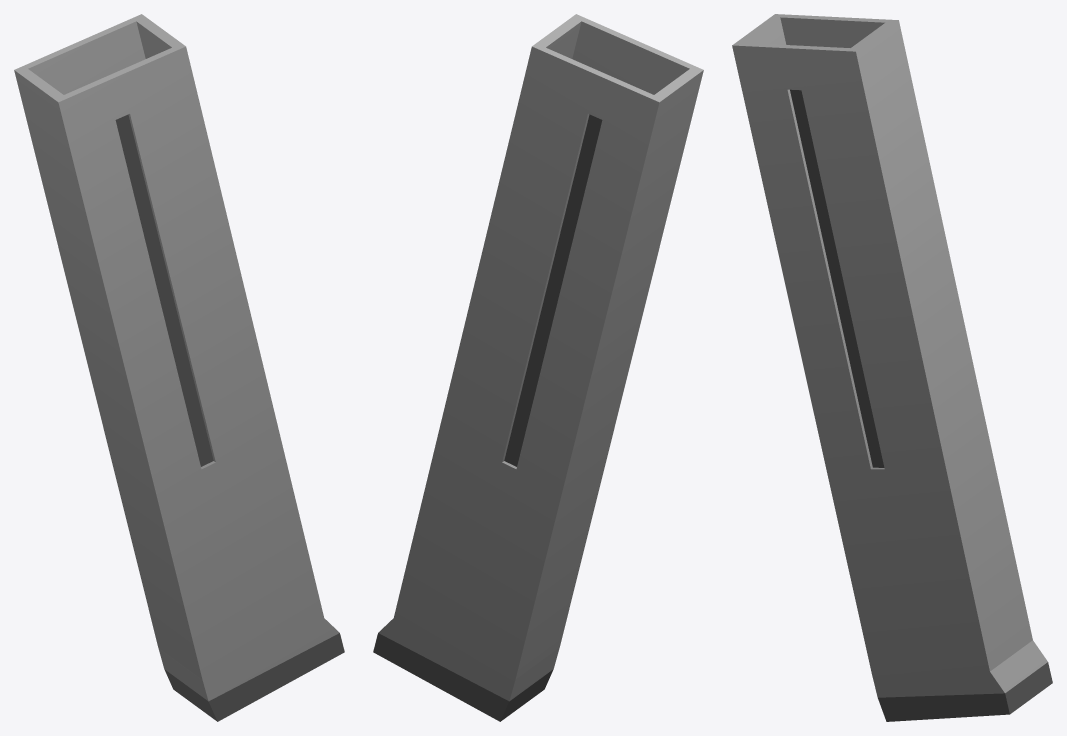
Rendered from SMG6_02_2.fbx.
3 views of the same model, side by side, from view 1: azimuth 30°, elevation 25°; view 2: azimuth 150°, elevation 25°; view 3: azimuth 330°, elevation 25° (orthographic). The views are drawn at different scales.
Parts seen in each view (by area): view 1: SMG6_02_2; view 2: SMG6_02_2; view 3: SMG6_02_2.
Part boxes in pixels (box(x1,y1,x2,y2)): SMG6_02_2: box(14, 14, 344, 721); SMG6_02_2: box(373, 14, 703, 721); SMG6_02_2: box(732, 14, 1052, 721).
Size of the model in its own units: 0.0924 by 0.2105 by 0.0248.
